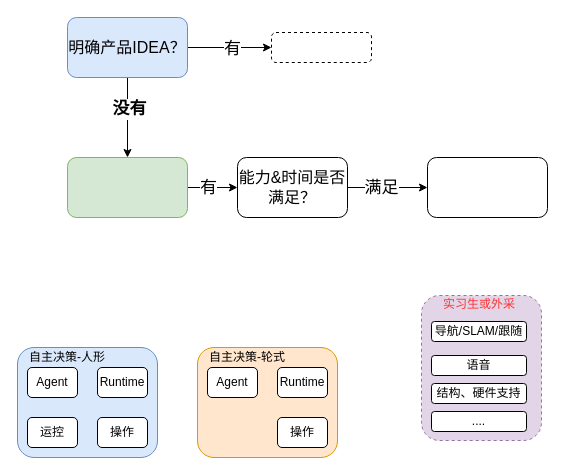
This 565x475 diagram has some shape labels left out. Each missing label, with the centre of its shape:
公司内部机器人产品制作: (x=127, y=187)
第一优先级: (x=321, y=47)
第二优先级: (x=487, y=187)
